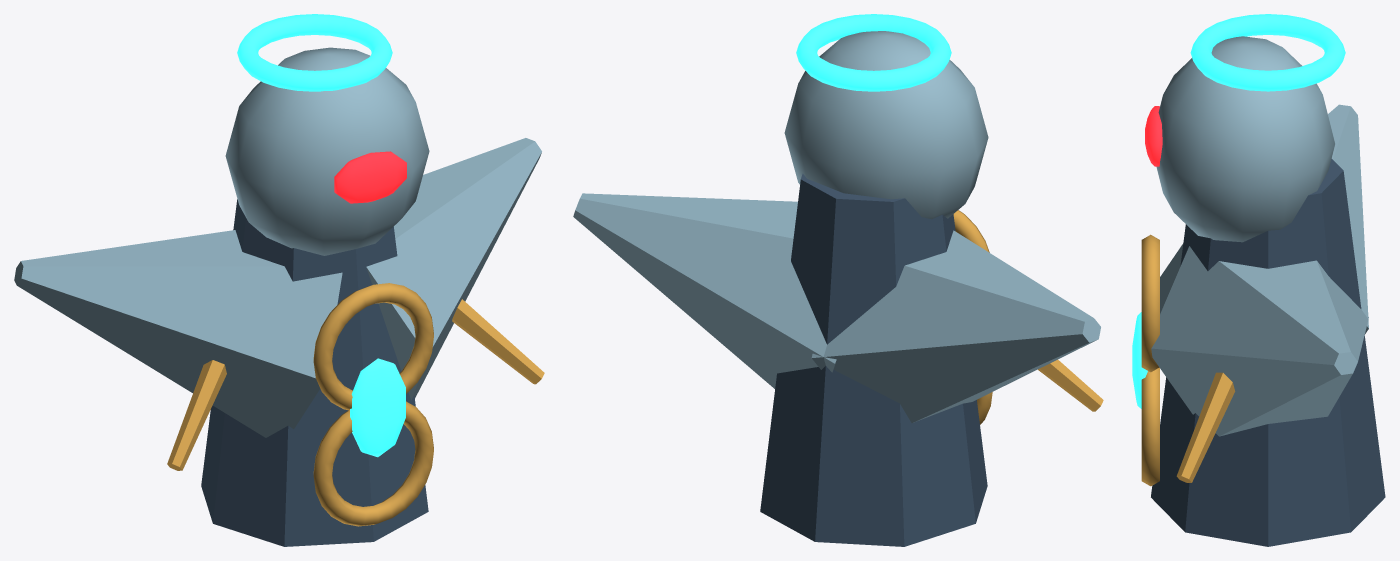
Rendered from enemy-thief.glb.
3 views of the same model, side by side, from view 1: azimuth 30°, elevation 25°; view 2: azimuth 150°, elevation 25°; view 3: azimuth 270°, elevation 25° (orthographic).
Parts seen in each view (by area): view 1: ThiefWing-1, ThiefBody, ThiefHead, ThiefWing1, ThiefTopRune, ThiefHourglassTop, ThiefHourglassBottom, StolenTime, ThiefEye, ThiefArm-1, ThiefArm1; view 2: ThiefBody, ThiefWing-1, ThiefWing1, ThiefHead, ThiefTopRune, ThiefArm-1, ThiefHourglassTop; view 3: ThiefBody, ThiefWing1, ThiefHead, ThiefTopRune, ThiefWing-1, ThiefArm1, ThiefHourglassTop, ThiefHourglassBottom, ThiefEye, StolenTime.
Part boxes in pixels (bbox=[...]): ThiefWing-1: bbox=[14, 230, 342, 437]; ThiefBody: bbox=[201, 199, 428, 546]; ThiefHead: bbox=[225, 47, 429, 255]; ThiefWing1: bbox=[366, 138, 541, 400]; ThiefTopRune: bbox=[237, 14, 392, 91]; ThiefHourglassTop: bbox=[313, 283, 433, 410]; ThiefHourglassBottom: bbox=[313, 401, 433, 526]; StolenTime: bbox=[350, 358, 405, 457]; ThiefEye: bbox=[334, 151, 406, 203]; ThiefArm-1: bbox=[167, 360, 226, 470]; ThiefArm1: bbox=[452, 299, 544, 384]; ThiefBody: bbox=[760, 173, 987, 546]; ThiefWing-1: bbox=[811, 230, 1100, 422]; ThiefWing1: bbox=[573, 193, 836, 388]; ThiefHead: bbox=[784, 31, 988, 219]; ThiefTopRune: bbox=[796, 14, 951, 91]; ThiefArm-1: bbox=[1038, 359, 1103, 411]; ThiefHourglassTop: bbox=[953, 210, 989, 252]; ThiefBody: bbox=[1151, 159, 1385, 546]; ThiefWing1: bbox=[1151, 246, 1368, 436]; ThiefHead: bbox=[1156, 36, 1334, 242]; ThiefTopRune: bbox=[1190, 14, 1345, 91]; ThiefWing-1: bbox=[1160, 104, 1368, 334]; ThiefArm1: bbox=[1176, 372, 1235, 482]; ThiefHourglassTop: bbox=[1141, 234, 1159, 372]; ThiefHourglassBottom: bbox=[1141, 367, 1159, 486]; ThiefEye: bbox=[1145, 106, 1162, 166]; StolenTime: bbox=[1132, 312, 1147, 408].
Size of the model in its own units: 1.44 by 1.19 by 0.6038.
